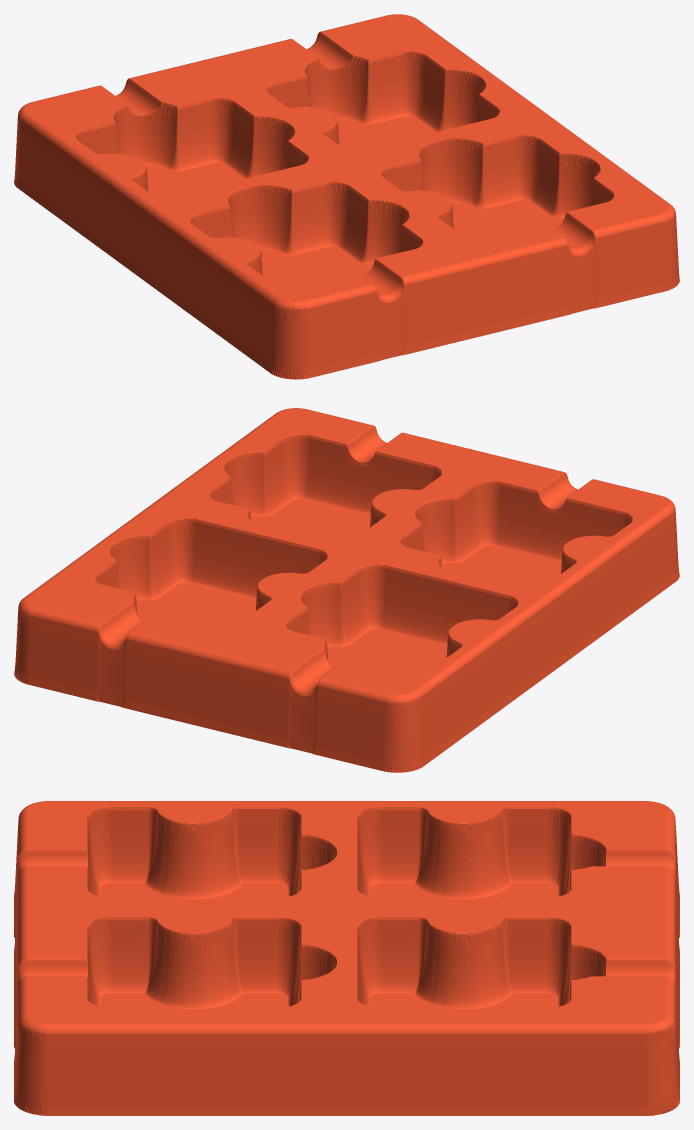
File: mold.glb
3 renders of one model, top to bottom at view 1: azimuth 30°, elevation 25°; view 2: azimuth 150°, elevation 25°; view 3: azimuth 270°, elevation 25°, orthographic. The views are drawn at different scales.
Parts seen in each view (by area): view 1: geometry_0; view 2: geometry_0; view 3: geometry_0.
Part boxes in pixels (x1,y1,x2,y2): geometry_0: (14,14,679,379); geometry_0: (14,408,679,772); geometry_0: (14,801,679,1115).
Bounding box in the file's own units: 0.1419 × 0.0245 × 0.171.
